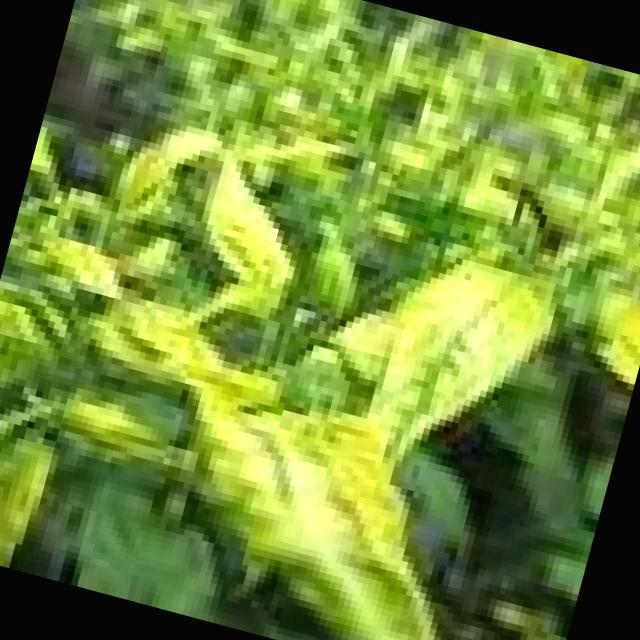yellowish leaf: (1, 104, 588, 495), (119, 332, 518, 640)
